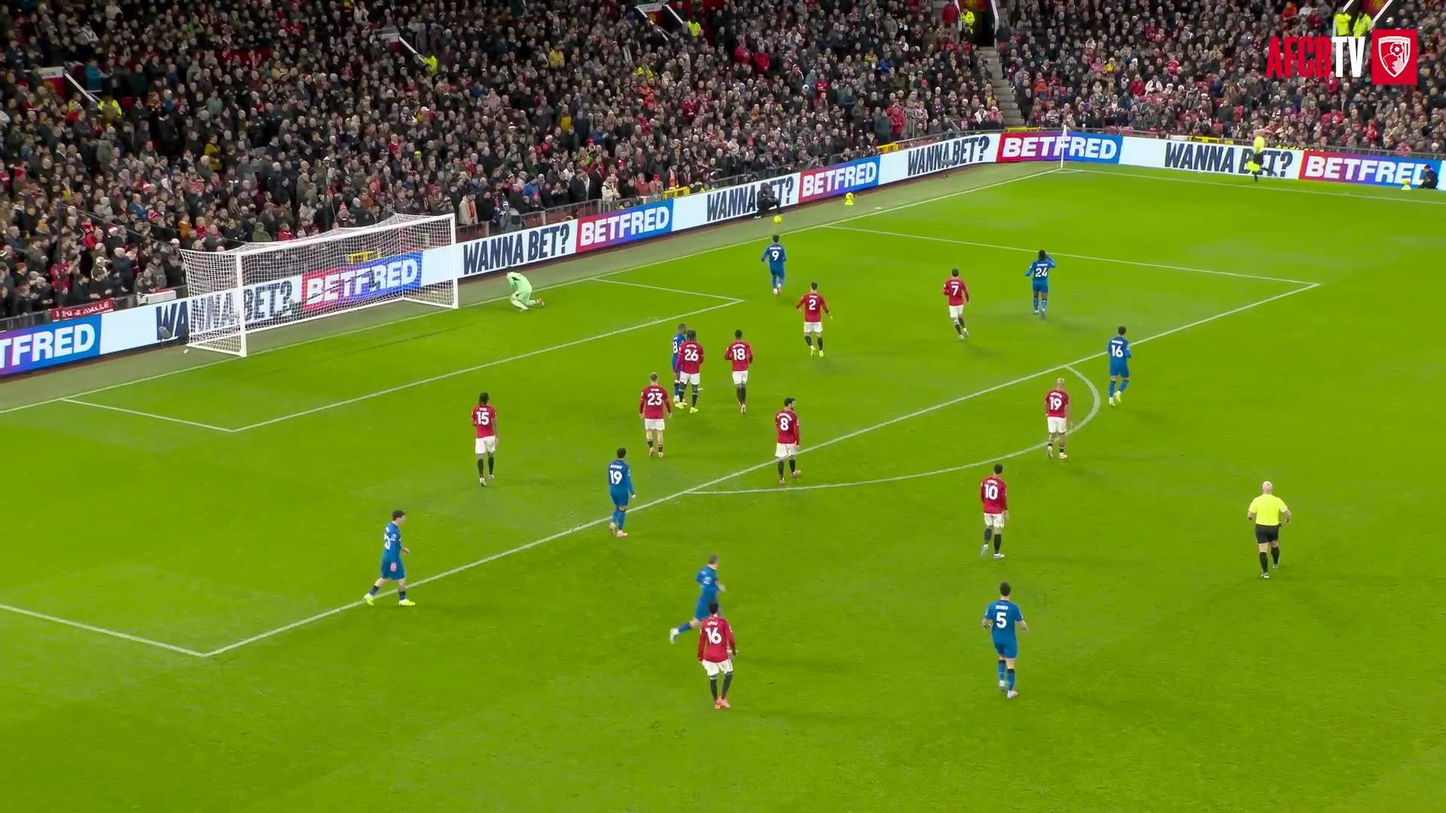player: (982, 583, 1028, 698), (670, 554, 724, 642), (364, 510, 414, 605), (698, 601, 736, 708), (795, 282, 832, 356), (639, 373, 671, 457), (980, 464, 1007, 559), (607, 447, 635, 537), (675, 329, 703, 413), (471, 393, 496, 486), (725, 330, 753, 413), (775, 397, 800, 484), (1045, 377, 1070, 458), (1027, 249, 1055, 317), (943, 268, 969, 340), (1107, 327, 1130, 405), (669, 323, 687, 406), (506, 272, 544, 311), (761, 234, 786, 293)
referee: (1247, 481, 1289, 578), (1246, 134, 1274, 182)
